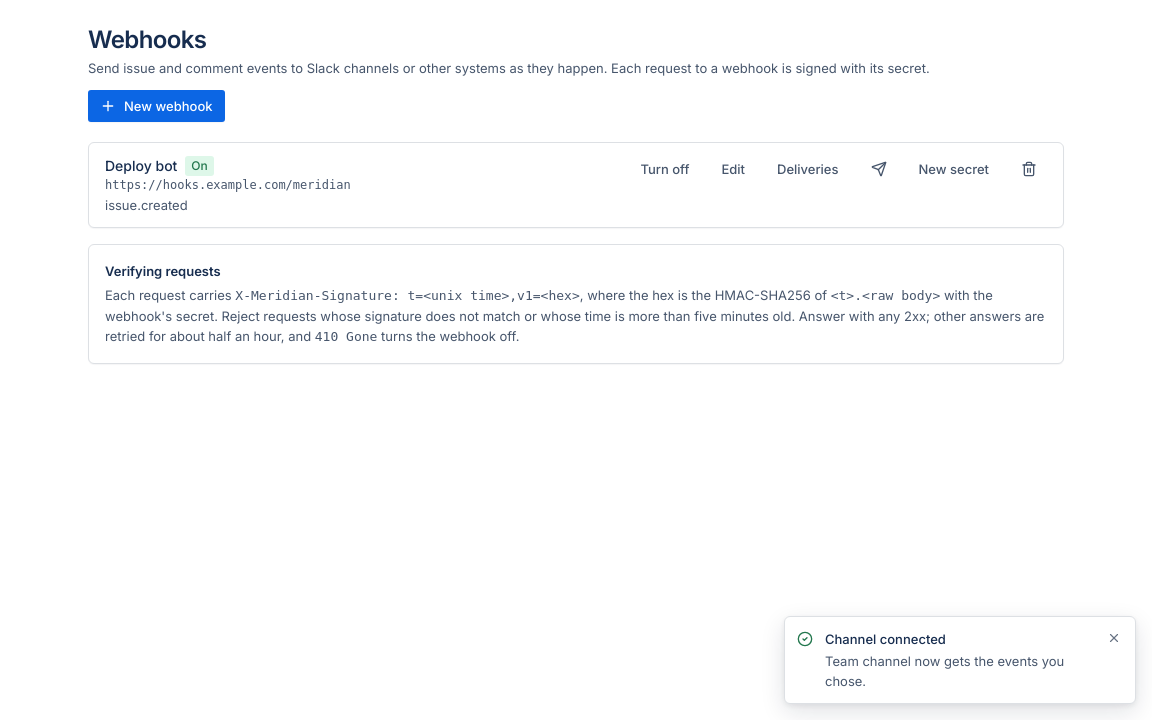
Test: webhooks › replaces the secret only after confirmation
What coordinates should you click on to do the following:
click the button "New secret"
I would click on:
 (954, 169)
Its box is [908,155,999,183].
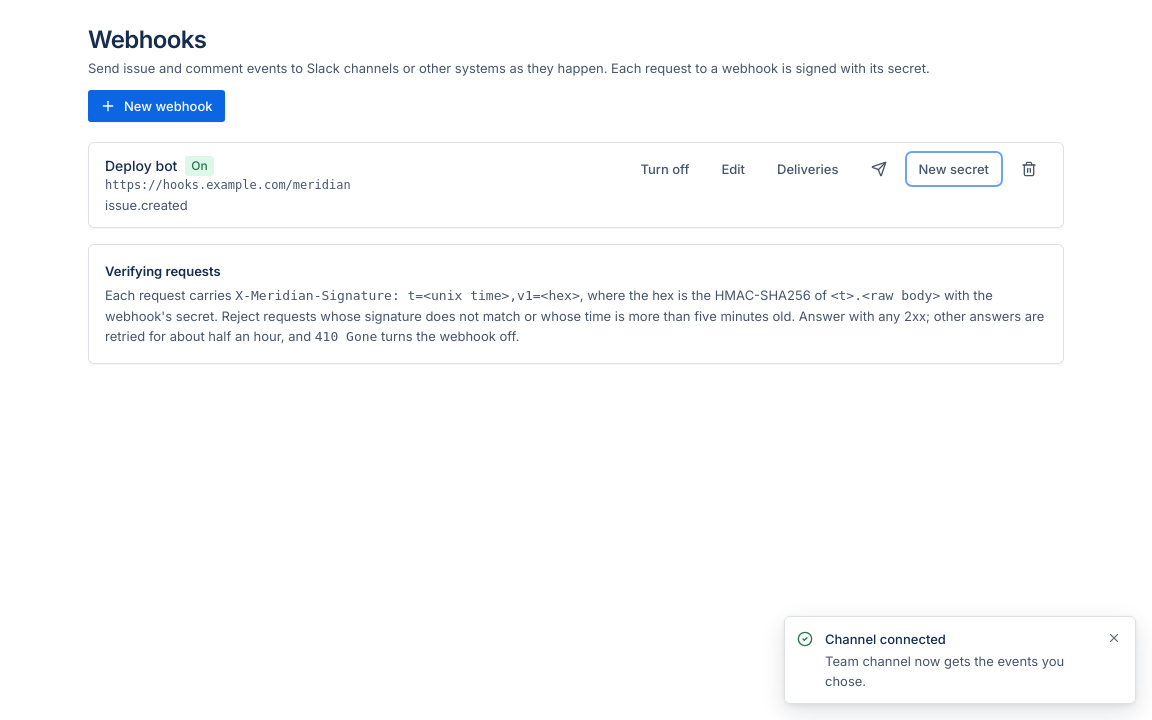
What coordinates should you click on to do the following:
click the button "New secret"
I would click on:
 (954, 169)
Its box is [908,155,999,183].
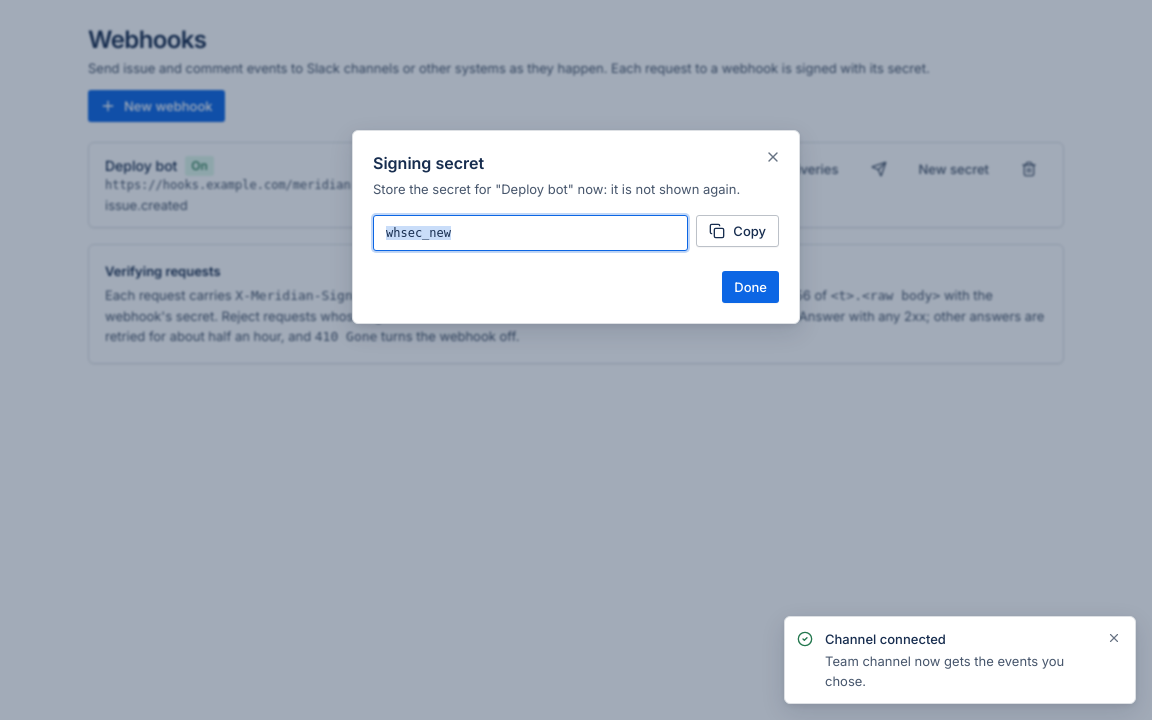
Expected: the field named "Signing secret" holds "whsec_new", [373,215,688,251]
